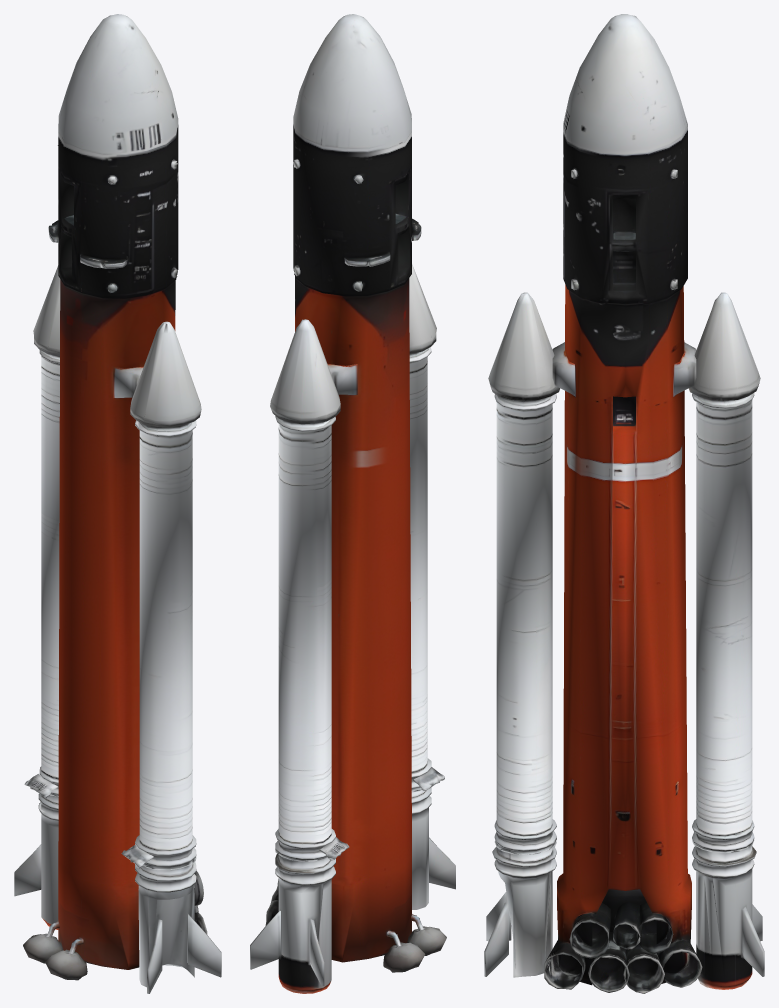
The model's file is sls-launch-vehicle.glb.
3 views of the same model, side by side, from view 1: azimuth 30°, elevation 25°; view 2: azimuth 150°, elevation 25°; view 3: azimuth 270°, elevation 25° (orthographic). The views are drawn at different scales.
Parts seen in each view (by area): view 1: tripo_node_f60423b1-9fad-4d58-8da5-875756779606; view 2: tripo_node_f60423b1-9fad-4d58-8da5-875756779606; view 3: tripo_node_f60423b1-9fad-4d58-8da5-875756779606.
Part boxes in pixels (left/top/right/bottom): tripo_node_f60423b1-9fad-4d58-8da5-875756779606: left=14, top=14, right=221, bottom=993; tripo_node_f60423b1-9fad-4d58-8da5-875756779606: left=250, top=14, right=455, bottom=993; tripo_node_f60423b1-9fad-4d58-8da5-875756779606: left=484, top=14, right=764, bottom=993.
Bounding box in the file's own units: 0.166 × 0.998 × 0.2637.
Materials: 1 (1 with a texture image).
